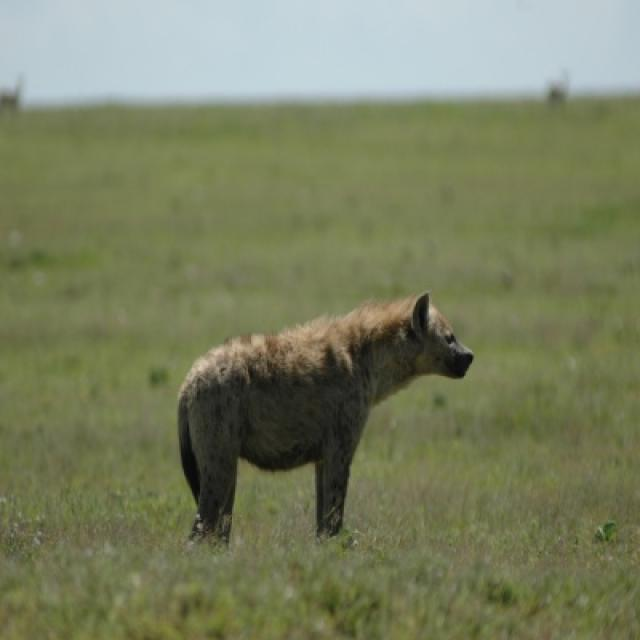hyena: (176, 293, 474, 546)
